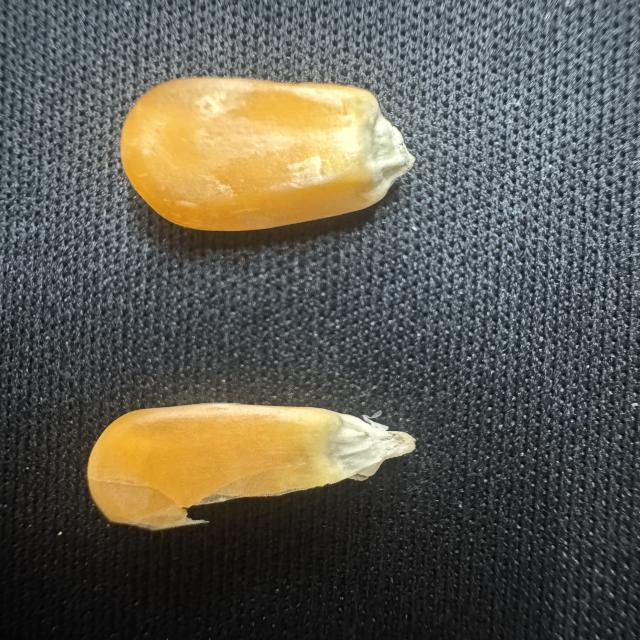Bad-Seed: (83, 397, 419, 543)
Good-Seed: (102, 61, 414, 234)
